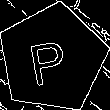P_N: (30, 30, 75, 86)
